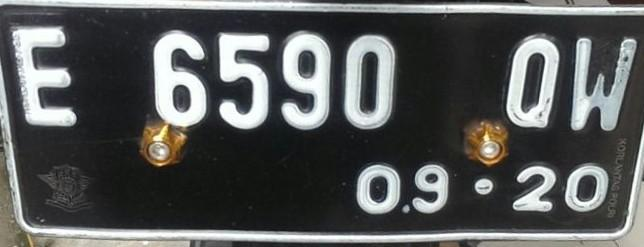clone-license-plate: (1, 0, 643, 237)
